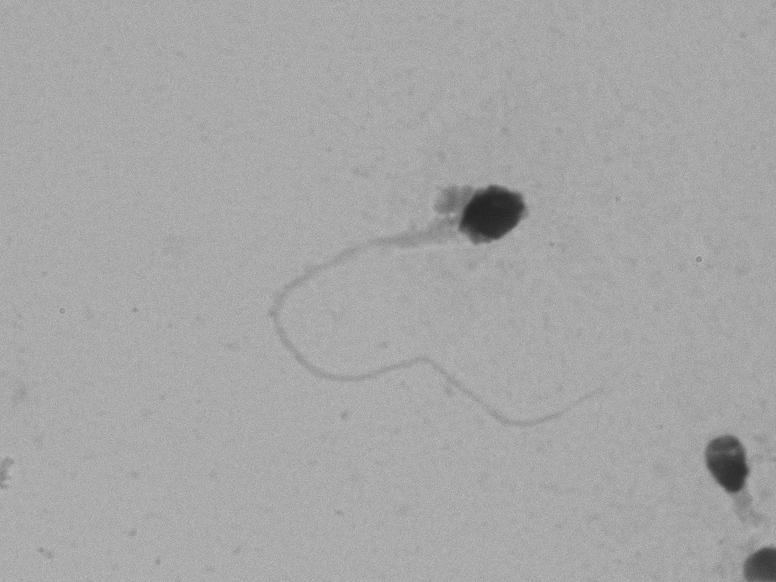Abnormal: (208, 160, 601, 475)
